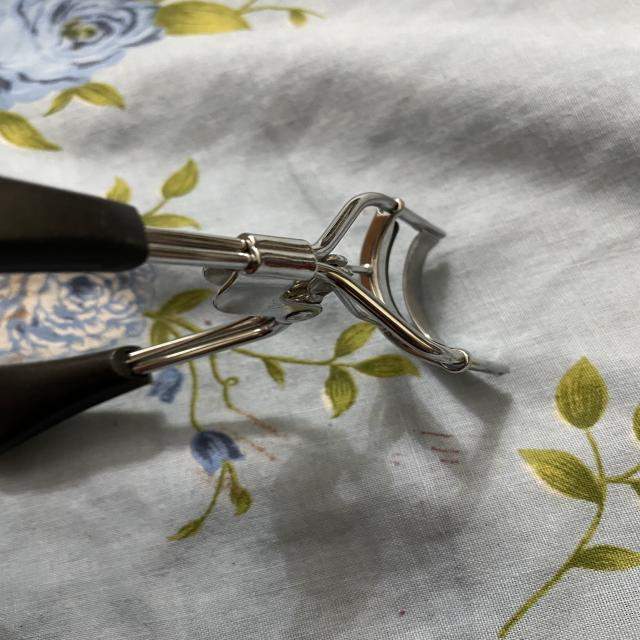eyelash curler: (0, 166, 500, 487)
